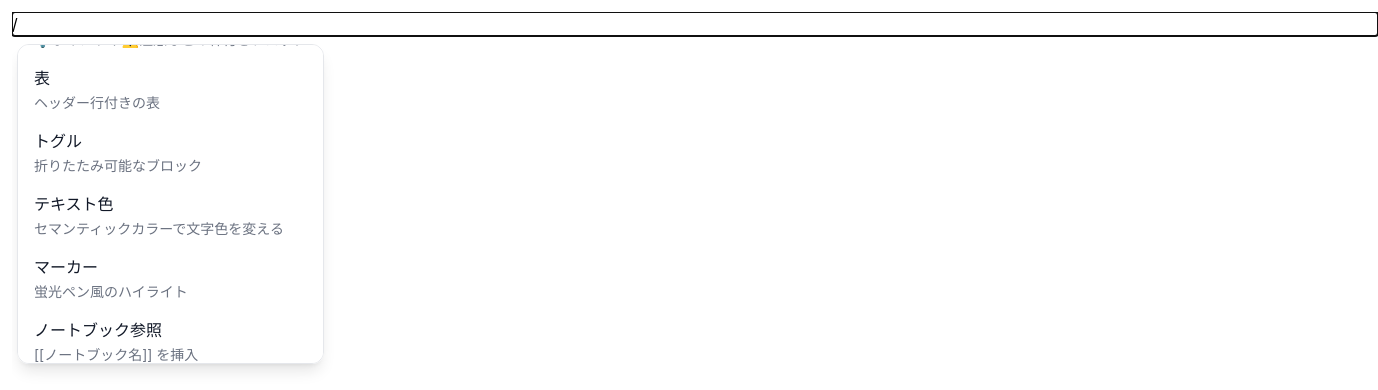
suggestion.render × RichTextEditor 統合（palette モード遷移・Task 7.2 / Req5.3） › palette モードで「戻る」を押すと root モードへ復帰する（Req5.3、notebook と同じ復帰契約）
The width and height of the screenshot is (1378, 390).
(page scrolled)
Click the text "テキスト色" at (74, 204), box [34,194,114,214]
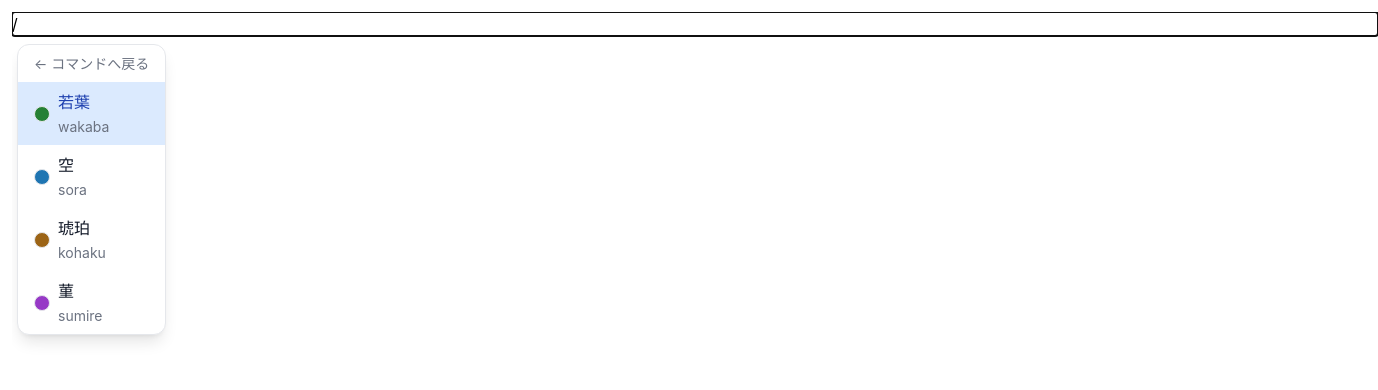
Result: the text "若葉" is shown at [58,92,90,112]
Click the button "← コマンドへ戻る" at (92, 64), box [18,45,165,82]
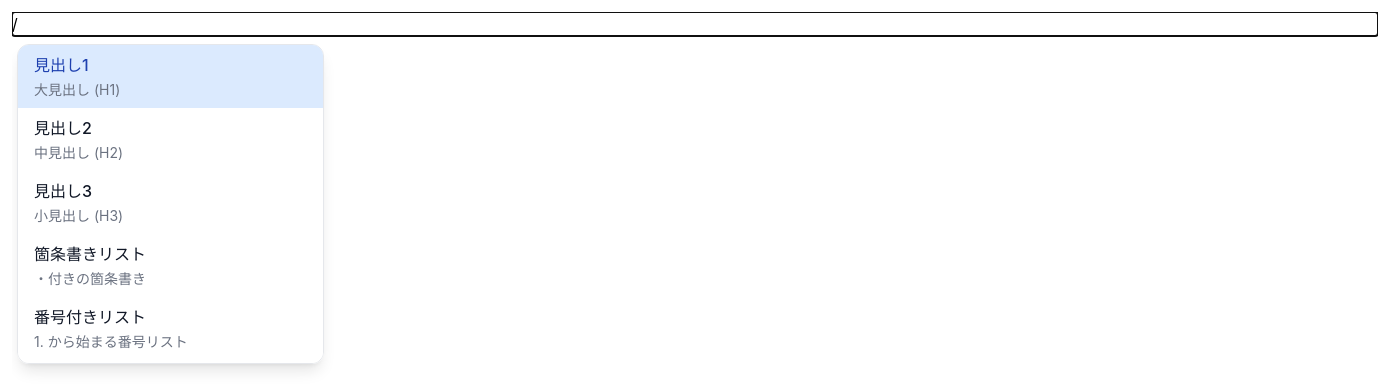
Result: the text "見出し1" is shown at [34,55,89,75]
Result: the option "若葉" is gone
